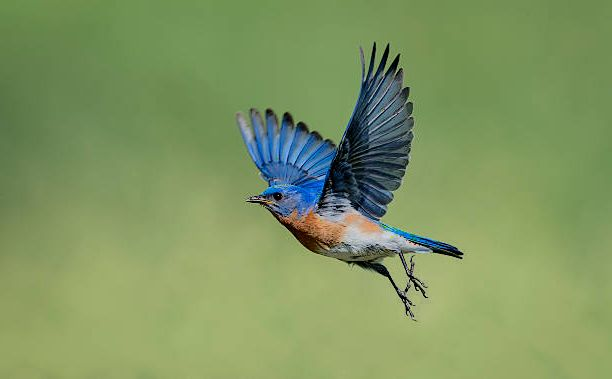Bird: (234, 37, 464, 325)
